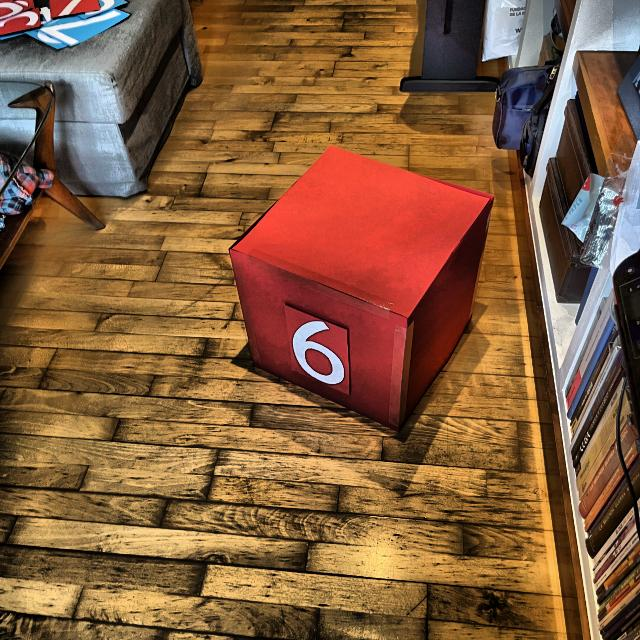red box: (230, 145, 495, 431)
six: (292, 319, 347, 385)
